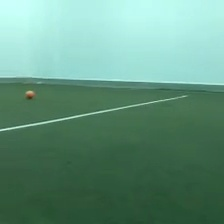ball: (24, 88, 35, 100)
